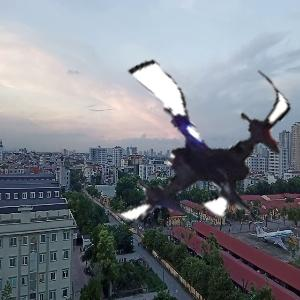drone: (78, 34, 298, 254)
